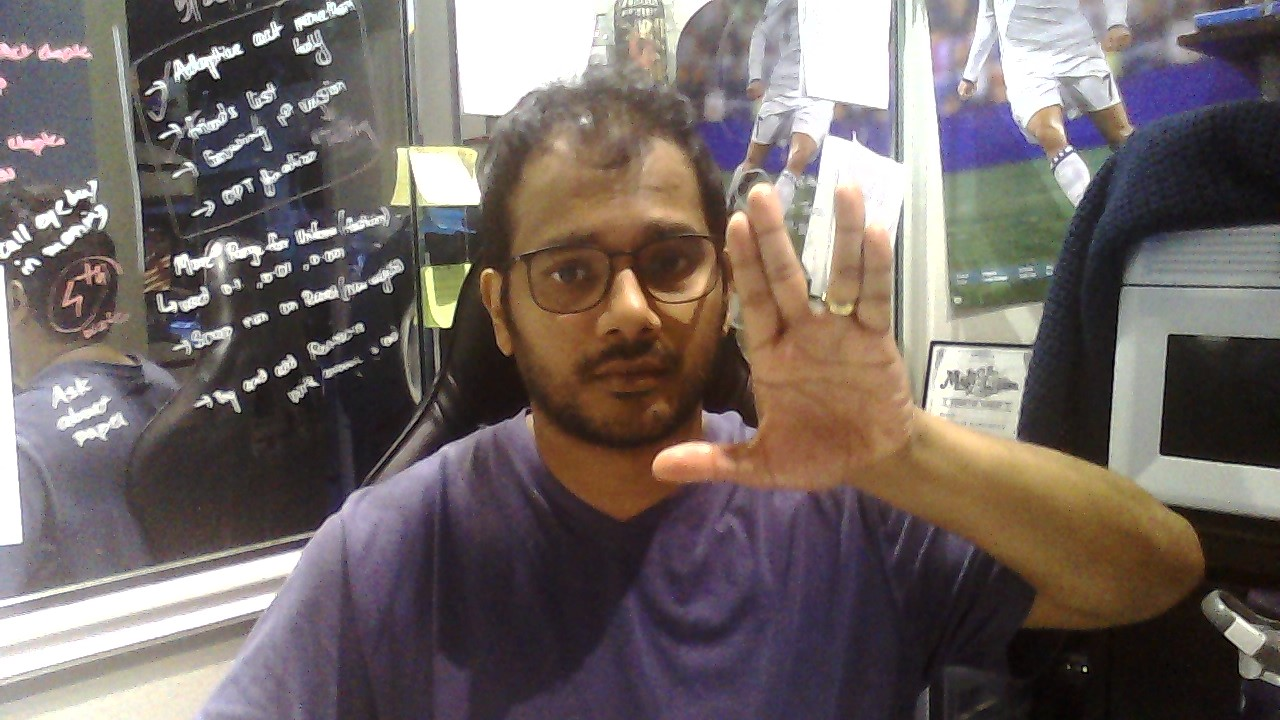LiveLong: (652, 180, 913, 493)
